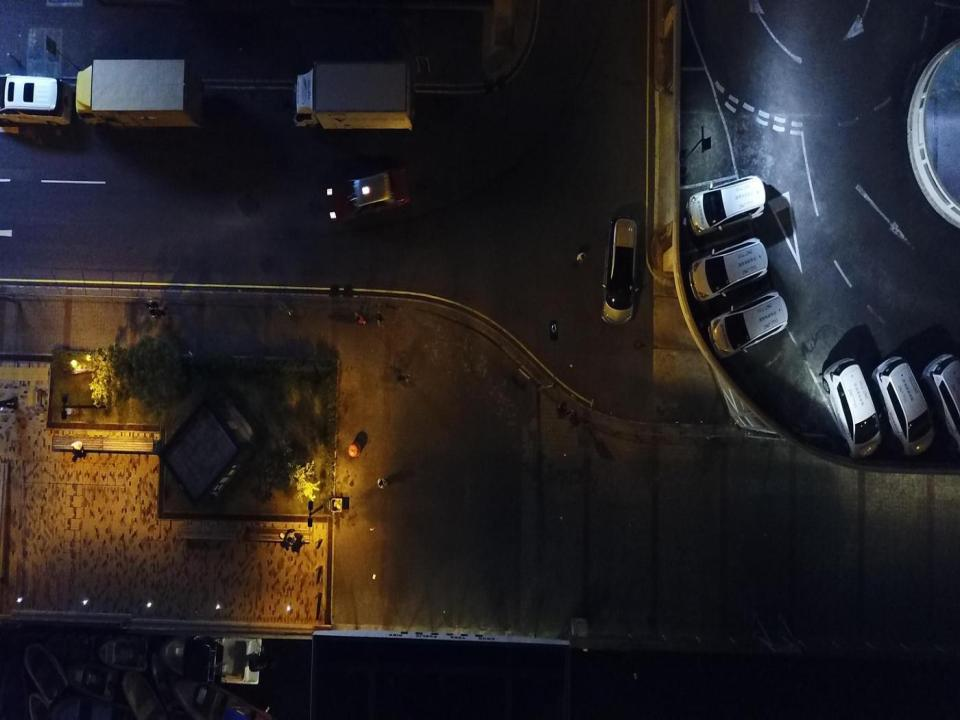car: (874, 356, 933, 454), (824, 358, 881, 454), (328, 166, 411, 223), (923, 351, 960, 451)
truck: (291, 61, 414, 130), (75, 58, 198, 126)
van: (708, 290, 788, 360), (686, 236, 767, 300), (686, 175, 764, 236), (604, 212, 638, 328), (0, 76, 73, 129)
